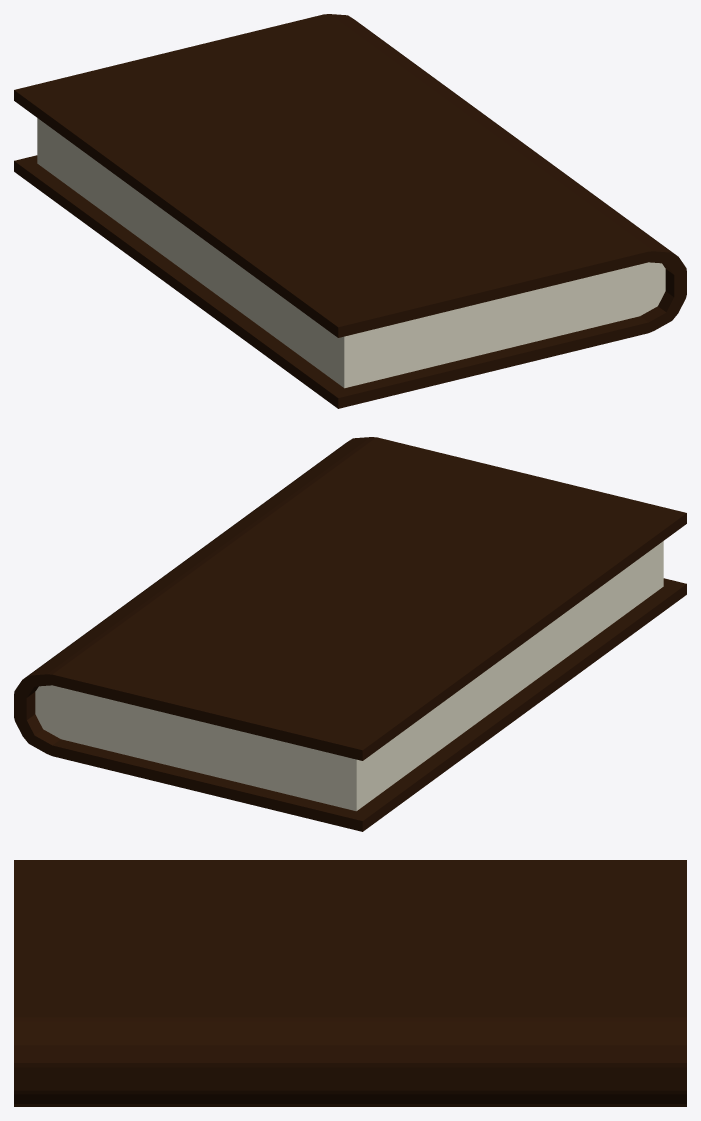
File: book.fbx
3 views of the same model, one above another, from view 1: azimuth 30°, elevation 25°; view 2: azimuth 150°, elevation 25°; view 3: azimuth 270°, elevation 25° (orthographic). The views are drawn at different scales.
Parts seen in each view (by area): view 1: Cube, Cube.001; view 2: Cube, Cube.001; view 3: Cube.
Part boxes in pixels (x1,y1,x2,y2): Cube: (14, 14, 686, 408); Cube.001: (37, 118, 665, 388); Cube: (14, 437, 686, 831); Cube.001: (35, 541, 663, 811); Cube: (14, 860, 686, 1106).
Size of the model in its own units: 236 by 52.8 by 380.
